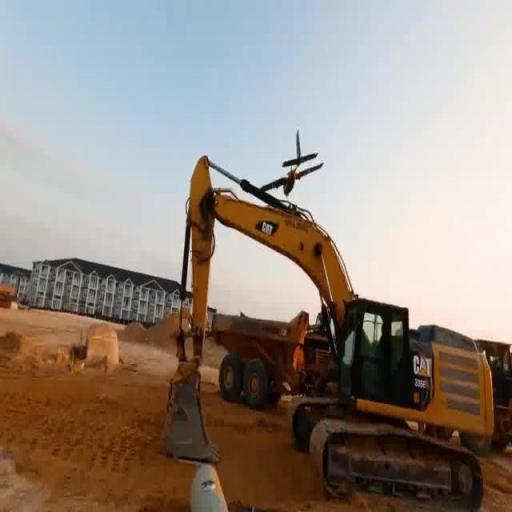uav: (260, 129, 326, 204)
